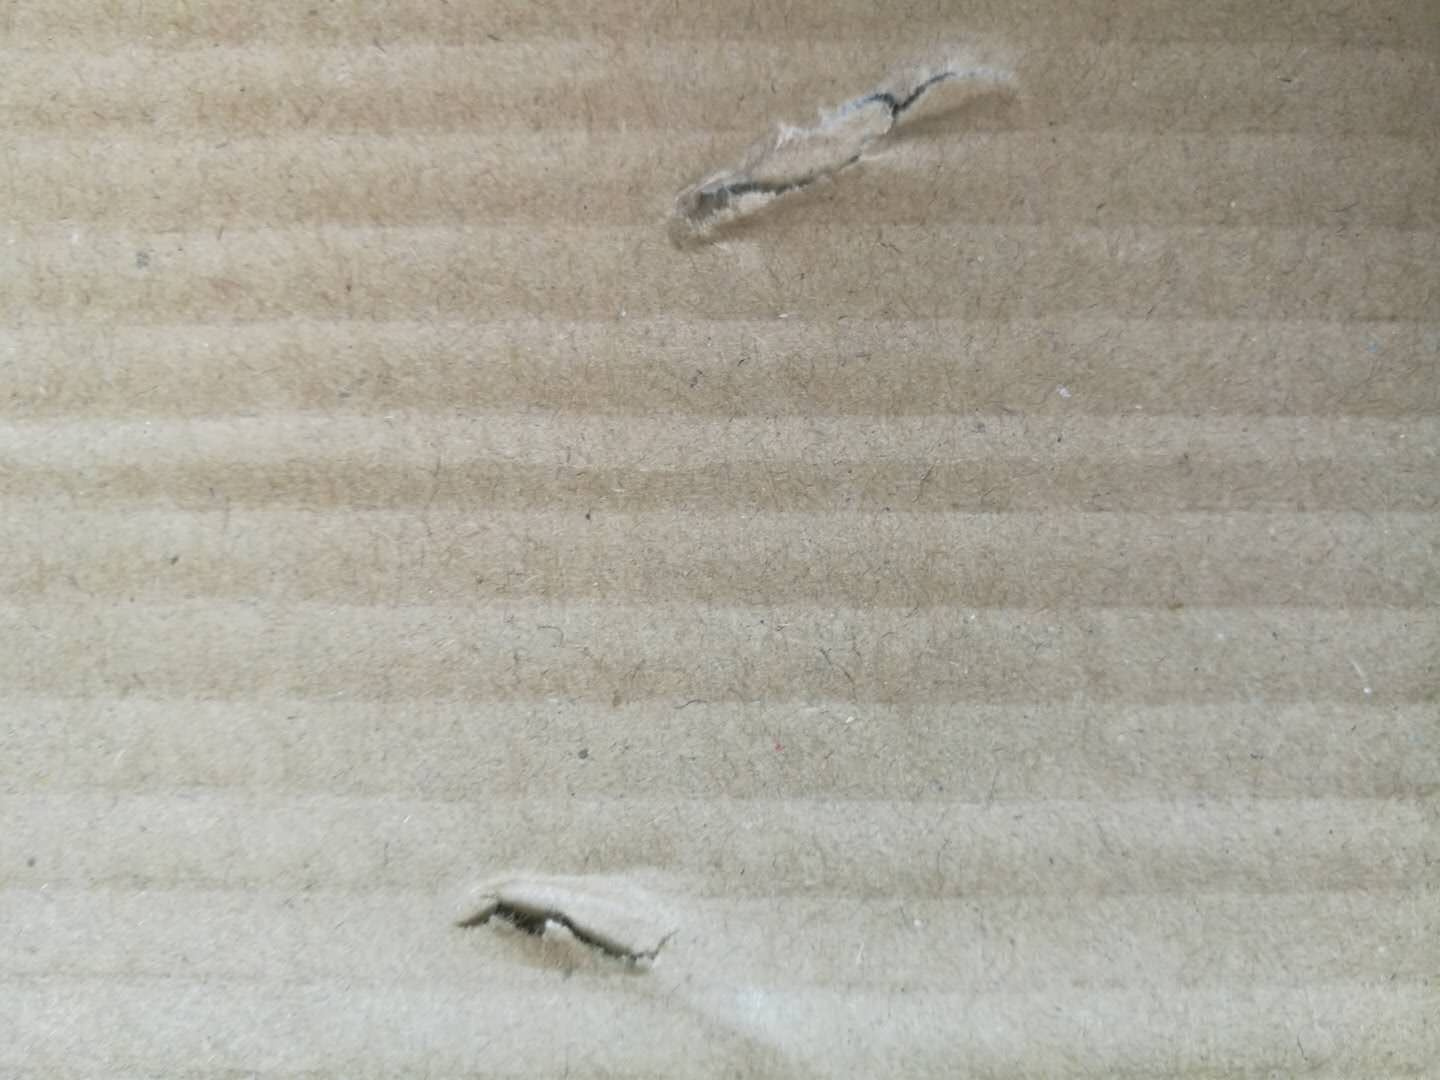defect: (634, 26, 1052, 280), (427, 847, 801, 1058)
